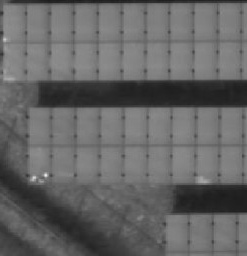solar: (24, 41, 53, 82), (47, 40, 76, 81), (71, 40, 100, 81), (95, 39, 124, 80), (119, 39, 148, 80), (143, 39, 172, 80), (166, 39, 195, 80), (191, 39, 220, 80), (215, 39, 244, 80), (143, 1, 172, 42), (119, 1, 148, 42), (95, 1, 124, 42), (71, 1, 100, 42), (47, 1, 76, 42), (24, 1, 53, 42), (25, 105, 54, 146), (49, 105, 78, 146), (73, 105, 102, 146), (96, 105, 125, 146), (120, 105, 149, 146), (146, 105, 175, 146), (169, 105, 198, 146), (193, 105, 222, 146), (216, 105, 245, 146), (216, 143, 245, 184), (193, 143, 222, 184), (168, 144, 197, 185), (144, 144, 173, 185), (121, 144, 150, 185), (97, 144, 126, 185), (72, 144, 101, 185), (47, 144, 76, 185), (24, 144, 53, 185), (162, 212, 191, 253), (186, 212, 215, 253), (211, 212, 240, 253), (215, 1, 244, 41), (191, 1, 220, 41), (167, 1, 196, 41), (1, 41, 29, 82), (1, 1, 29, 41)
